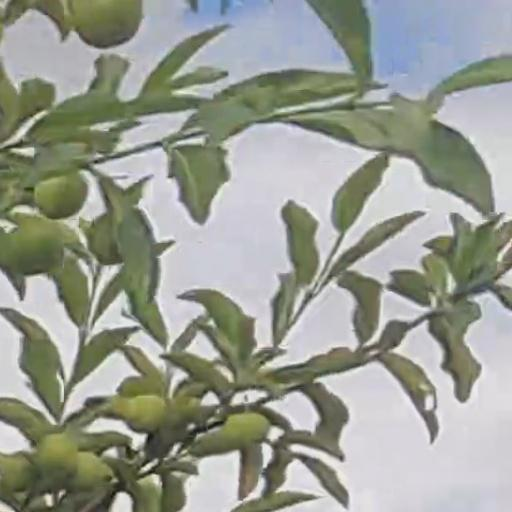acerola: (75, 1, 143, 47), (8, 219, 63, 273), (39, 177, 87, 216), (126, 394, 166, 433), (36, 435, 72, 477), (222, 415, 268, 445), (76, 455, 114, 486), (2, 456, 31, 490)
